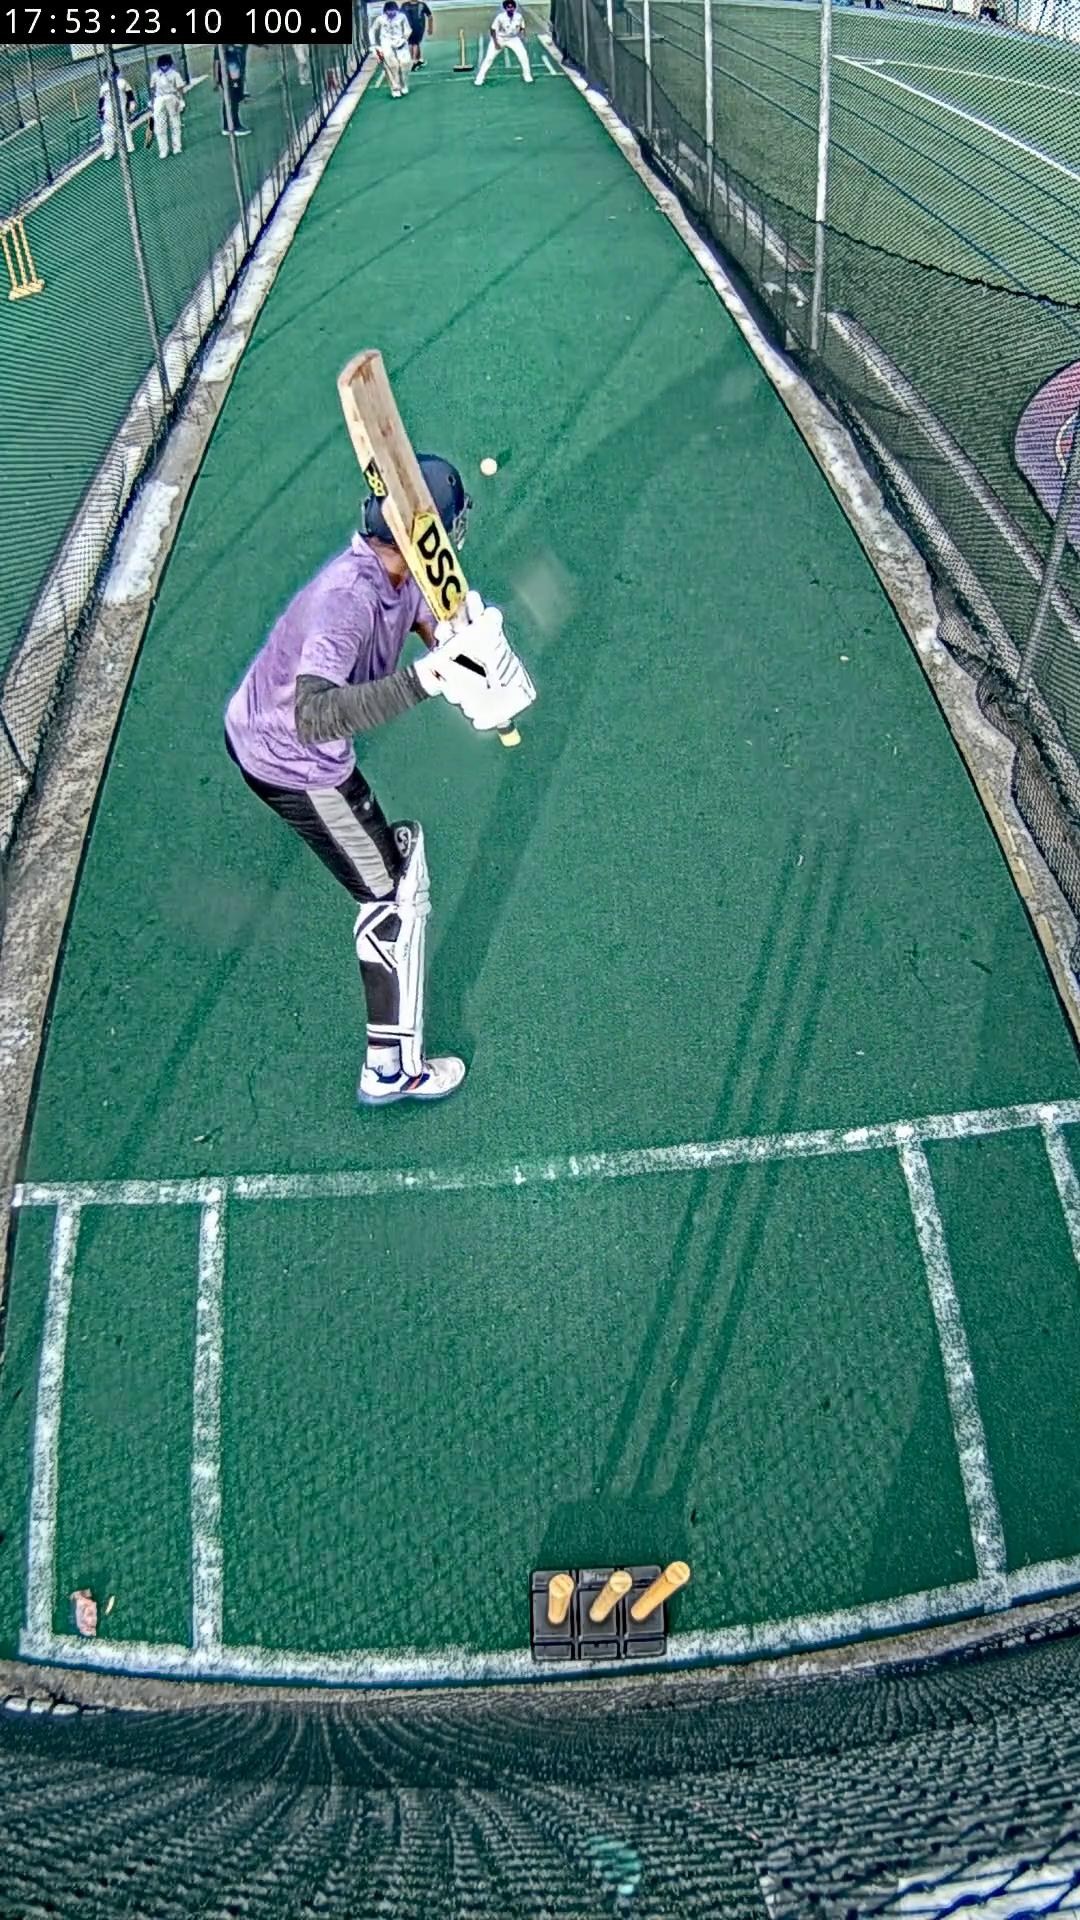ball: (480, 458, 498, 476)
bat: (338, 348, 468, 622)
gloves: (413, 592, 537, 732)
helmet: (417, 454, 468, 543), (360, 495, 394, 543)
pads: (390, 822, 431, 1075)
stumps: (529, 1560, 690, 1665)
